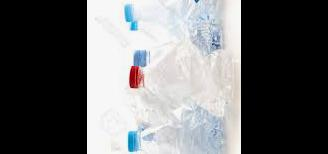Plastic: (124, 44, 233, 111), (124, 112, 231, 153), (128, 4, 222, 38), (137, 0, 225, 15)
